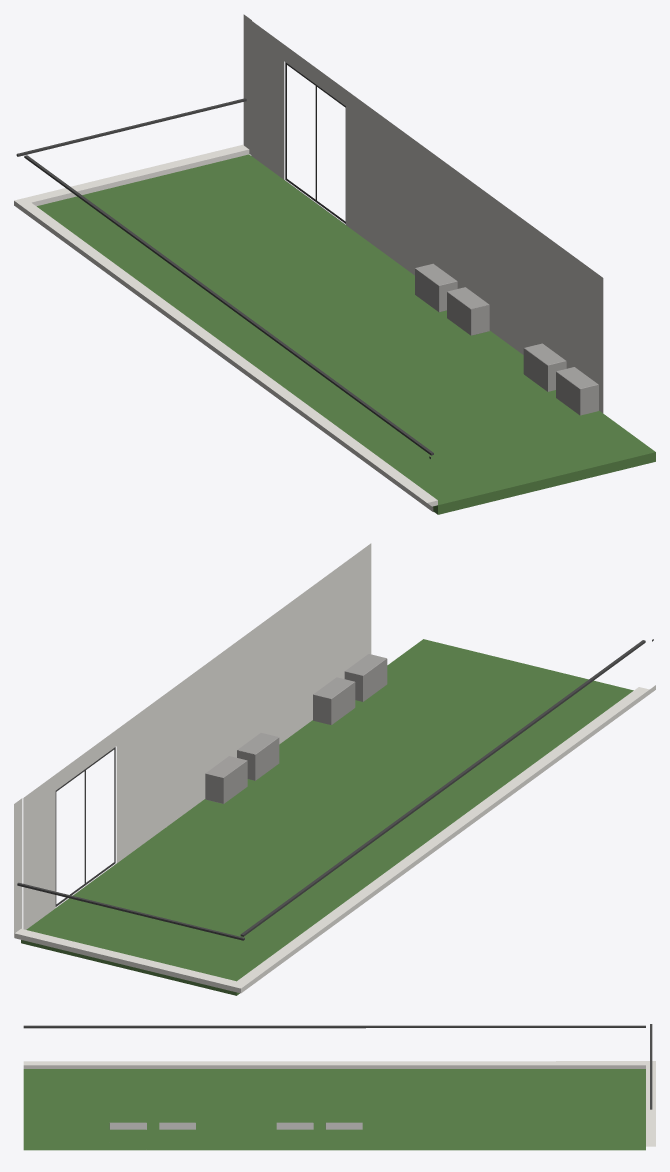
The model's file is LAWN.glb.
The picture shows the model from 3 angles, top to bottom: view 1: azimuth 30°, elevation 25°; view 2: azimuth 150°, elevation 25°; view 3: azimuth 270°, elevation 25°; orthographic projection. The views are drawn at different scales.
Parts seen in each view (by area): view 1: WEB_LAWN; view 2: WEB_LAWN; view 3: WEB_LAWN.
Part boxes in pixels (x1,y1,x2,y2): WEB_LAWN: (14,14,655,514); WEB_LAWN: (14,543,655,995); WEB_LAWN: (23,1024,655,1150).
Size of the model in its own units: 4.97 by 3 by 15.7.
